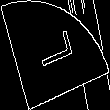L_W: (32, 32, 78, 78)
